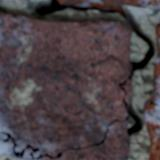brick: (0, 13, 130, 155), (61, 122, 128, 159), (143, 24, 159, 159), (0, 134, 12, 153), (126, 81, 130, 100), (24, 151, 29, 158)
broken_brick: (60, 0, 159, 9)
crack: (0, 0, 157, 159)
